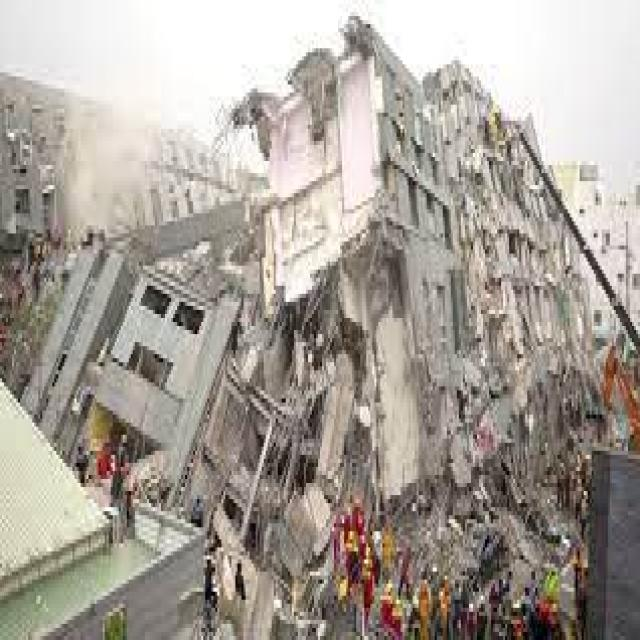Earthquake: (36, 66, 615, 592)
